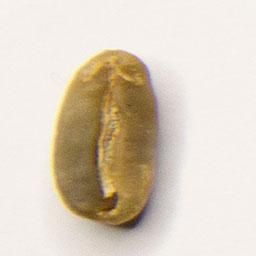longberry: (48, 46, 163, 228)
